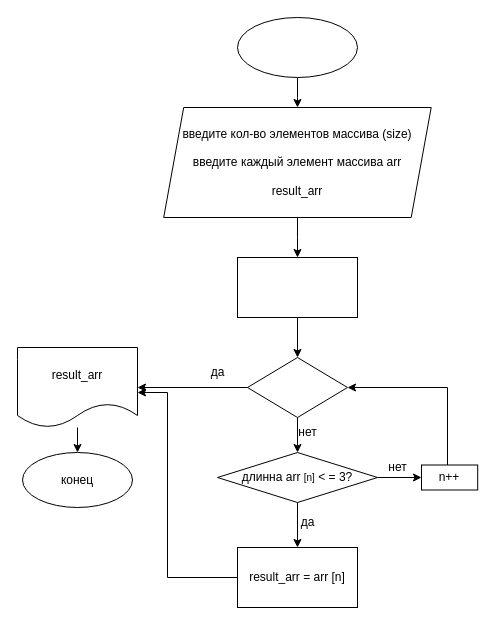
Some shapes in this 496 by 625 pixel diagram are drawn without their labels. The shapes that lost their labels are listed below. From the top down, each one's centre as x and y in pixels, then its label:
At point (297, 47): "начало".
At point (297, 287): "n=0".
At point (297, 387): "n + 1 = size?".
